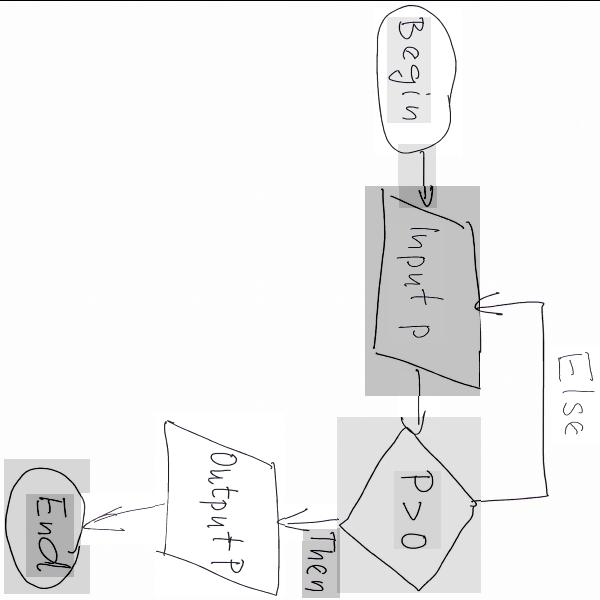arrow: (462, 285, 551, 518), (81, 492, 170, 544), (273, 502, 352, 540), (398, 371, 439, 437), (398, 143, 436, 207)
data: (365, 185, 479, 395), (155, 413, 284, 596)
decision: (337, 417, 481, 592)
terminator: (374, 8, 462, 156), (4, 458, 90, 593)
text: (388, 223, 444, 342), (199, 451, 246, 574), (552, 345, 600, 444), (387, 16, 431, 122), (26, 493, 74, 576), (394, 471, 441, 549), (302, 528, 340, 597)
